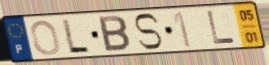1: (172, 10, 193, 49)
B: (97, 14, 133, 54)
L: (206, 10, 238, 46), (60, 18, 92, 54)
O: (29, 19, 62, 57)
S: (132, 12, 165, 52)
